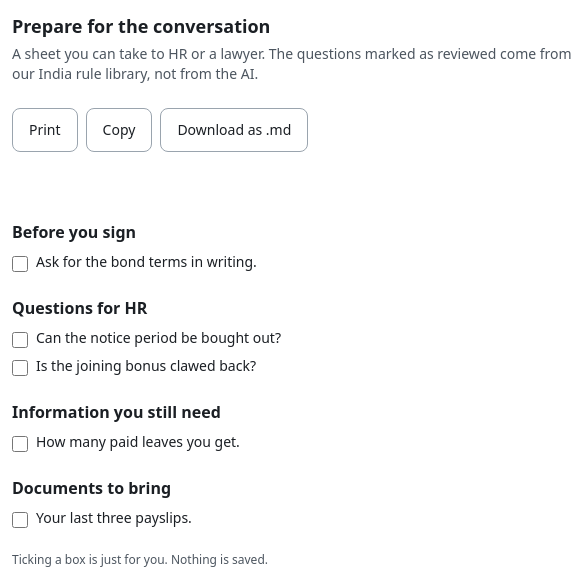
PrepareSheet › Copy › says so when the browser has no clipboard access at all, instead of throwing
This screenshot has width=588, height=584.
Click the button "Copy".
click(119, 130)  # box [86, 108, 152, 152]
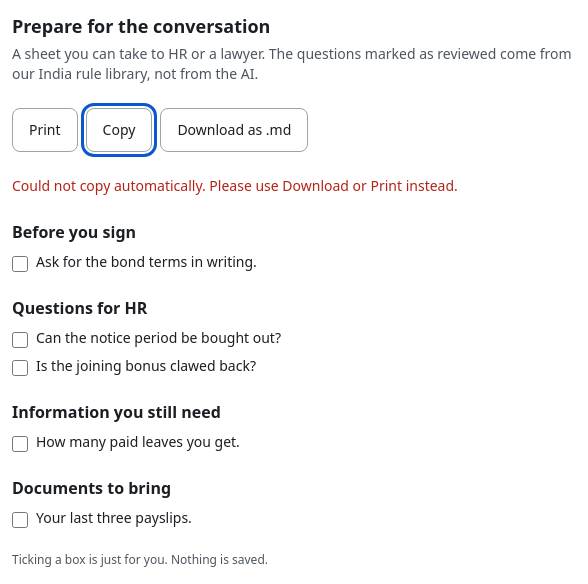
Now the text "Could not copy automatically. Please use Download or Print instead." is shown, box [12, 176, 458, 195]
